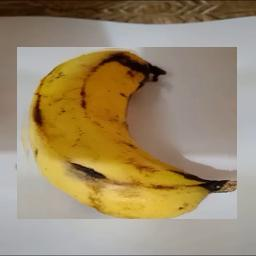Banana Semifresh: (17, 47, 237, 219)
